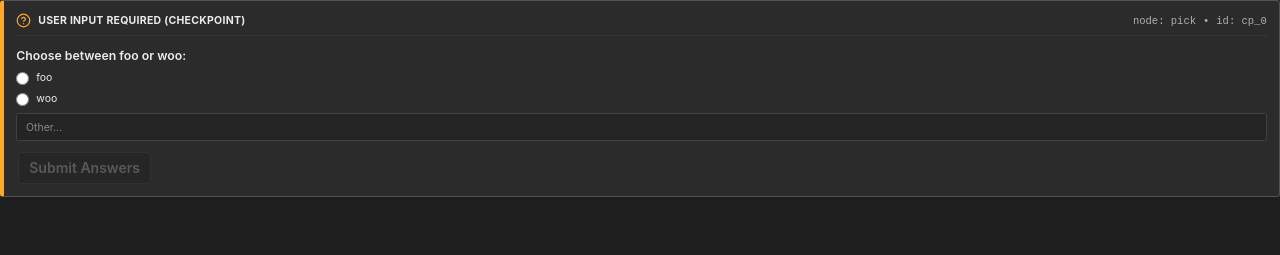
Test: CheckpointCard component › shows an error and re-enables the form when submission fails
Click the radio button labelled "foo".
click(23, 78)  # box [16, 72, 29, 85]
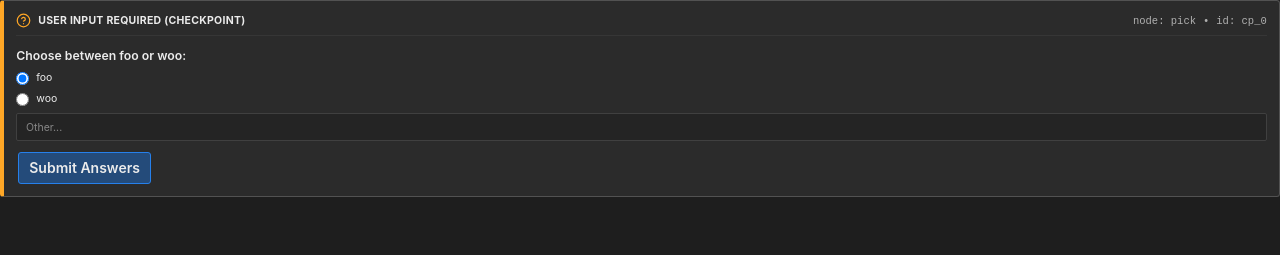
Click the button "Submit Answers".
click(85, 168)  # box [18, 152, 151, 184]
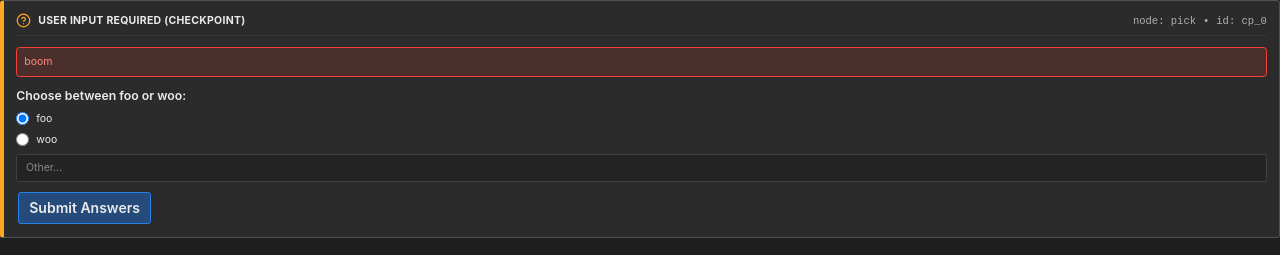
Check: the button "Submit Answers" is enabled, box [18, 192, 151, 224]
Check: the message reads "boom", box [24, 55, 52, 68]
